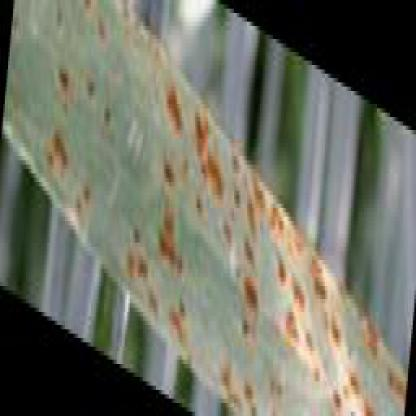Wheat Brown-rust: (46, 0, 128, 189), (117, 223, 220, 288), (154, 84, 191, 216), (308, 306, 344, 411), (221, 338, 281, 400), (149, 294, 223, 333), (246, 173, 264, 332), (195, 107, 222, 212), (227, 155, 243, 332), (350, 371, 405, 416), (268, 205, 287, 331), (292, 235, 305, 414), (358, 320, 377, 365), (308, 262, 328, 300), (74, 194, 96, 218)
